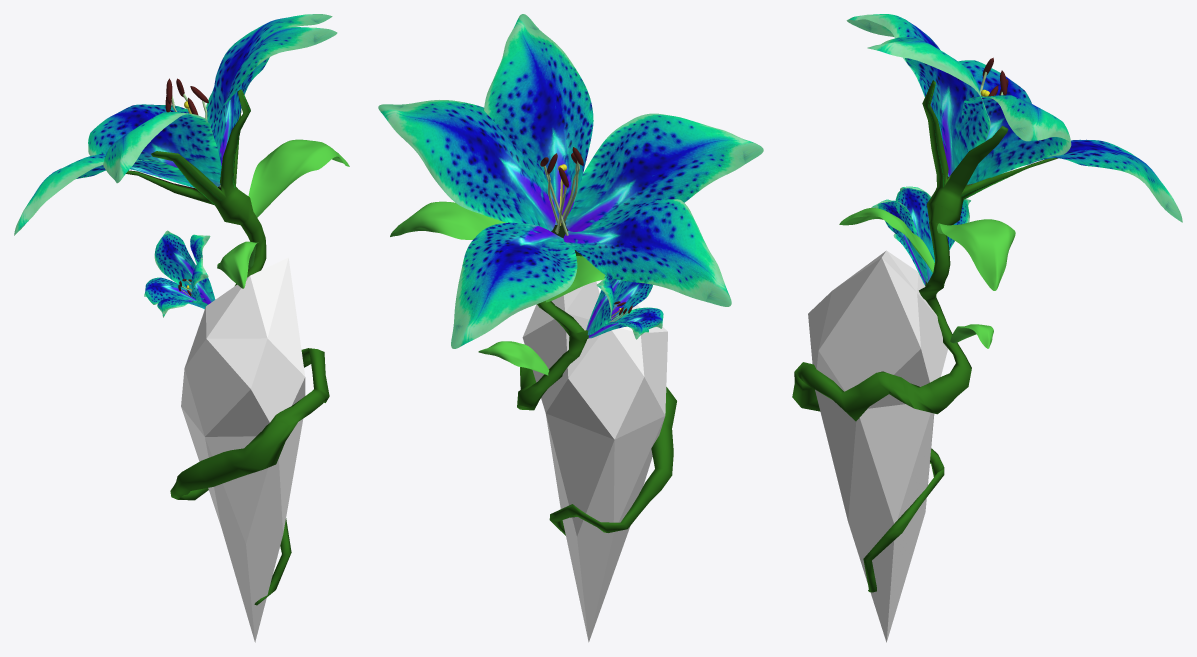
The model's file is pot.glb.
3 renders of one model, left to right at view 1: azimuth 30°, elevation 25°; view 2: azimuth 150°, elevation 25°; view 3: azimuth 270°, elevation 25°, orthographic. The views are drawn at different scales.
Visible parts, largest first — view 1: Gem.001; view 2: Gem.001; view 3: Gem.001.
Boxes of the visible parts, x1,y1,x2,y2 form: Gem.001: (14,14,349,642); Gem.001: (378,14,763,642); Gem.001: (792,14,1182,642).
Size of the model in its own units: 2.27 by 3.86 by 2.16.
Materials: 9 (2 with a texture image).
